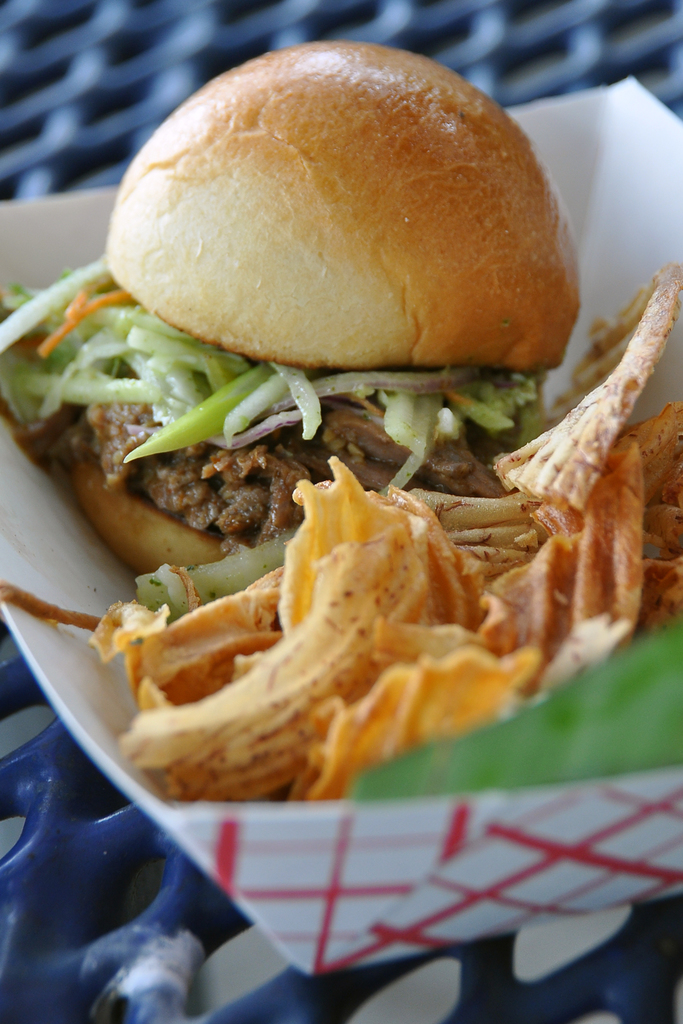Hamburger: (0, 37, 579, 565)
